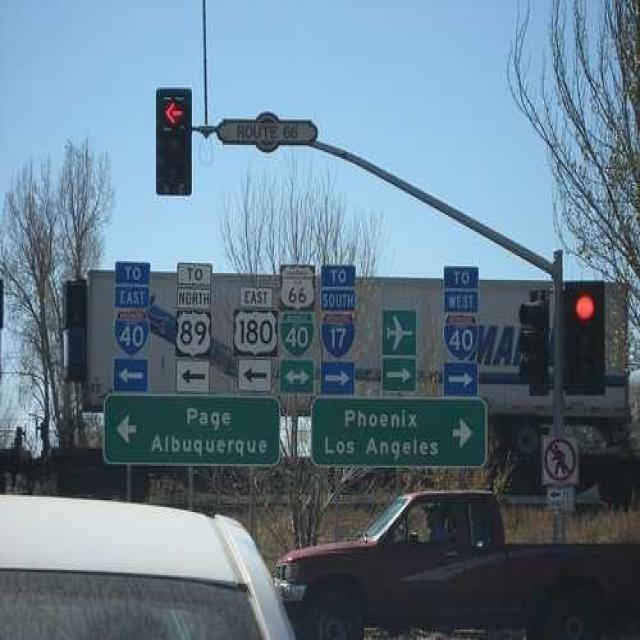Traffic Light -Red-: (562, 272, 610, 399), (152, 82, 196, 203)
